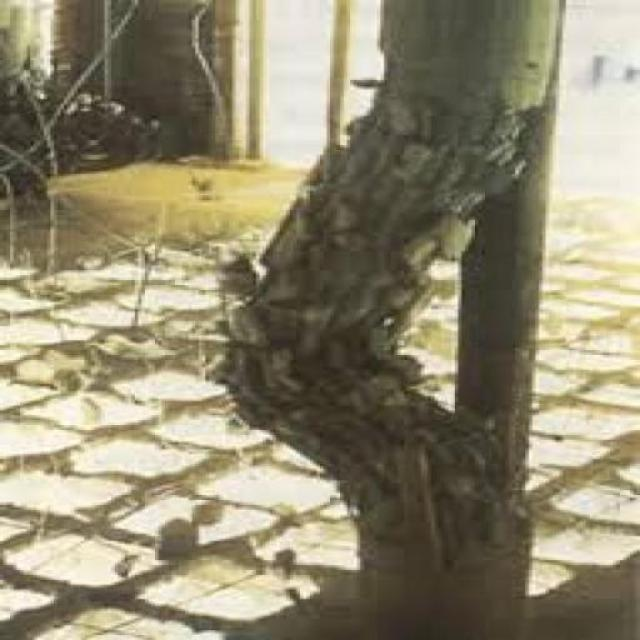D0w0: (208, 89, 526, 569)
